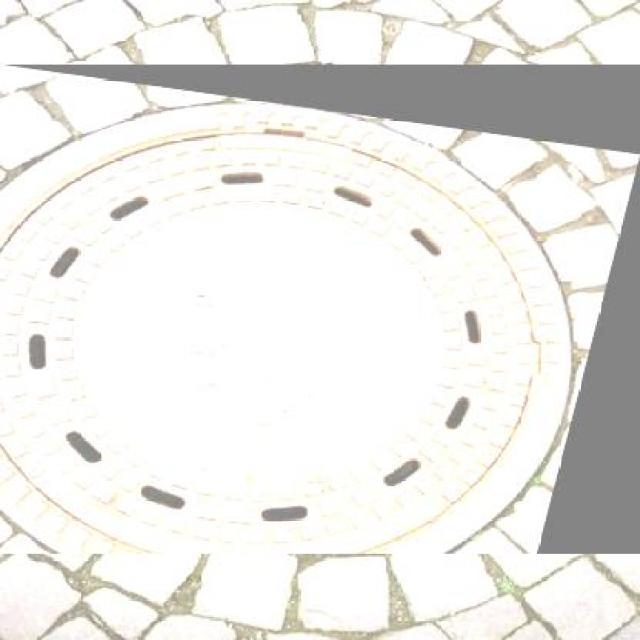Manhole: (0, 66, 640, 554)
